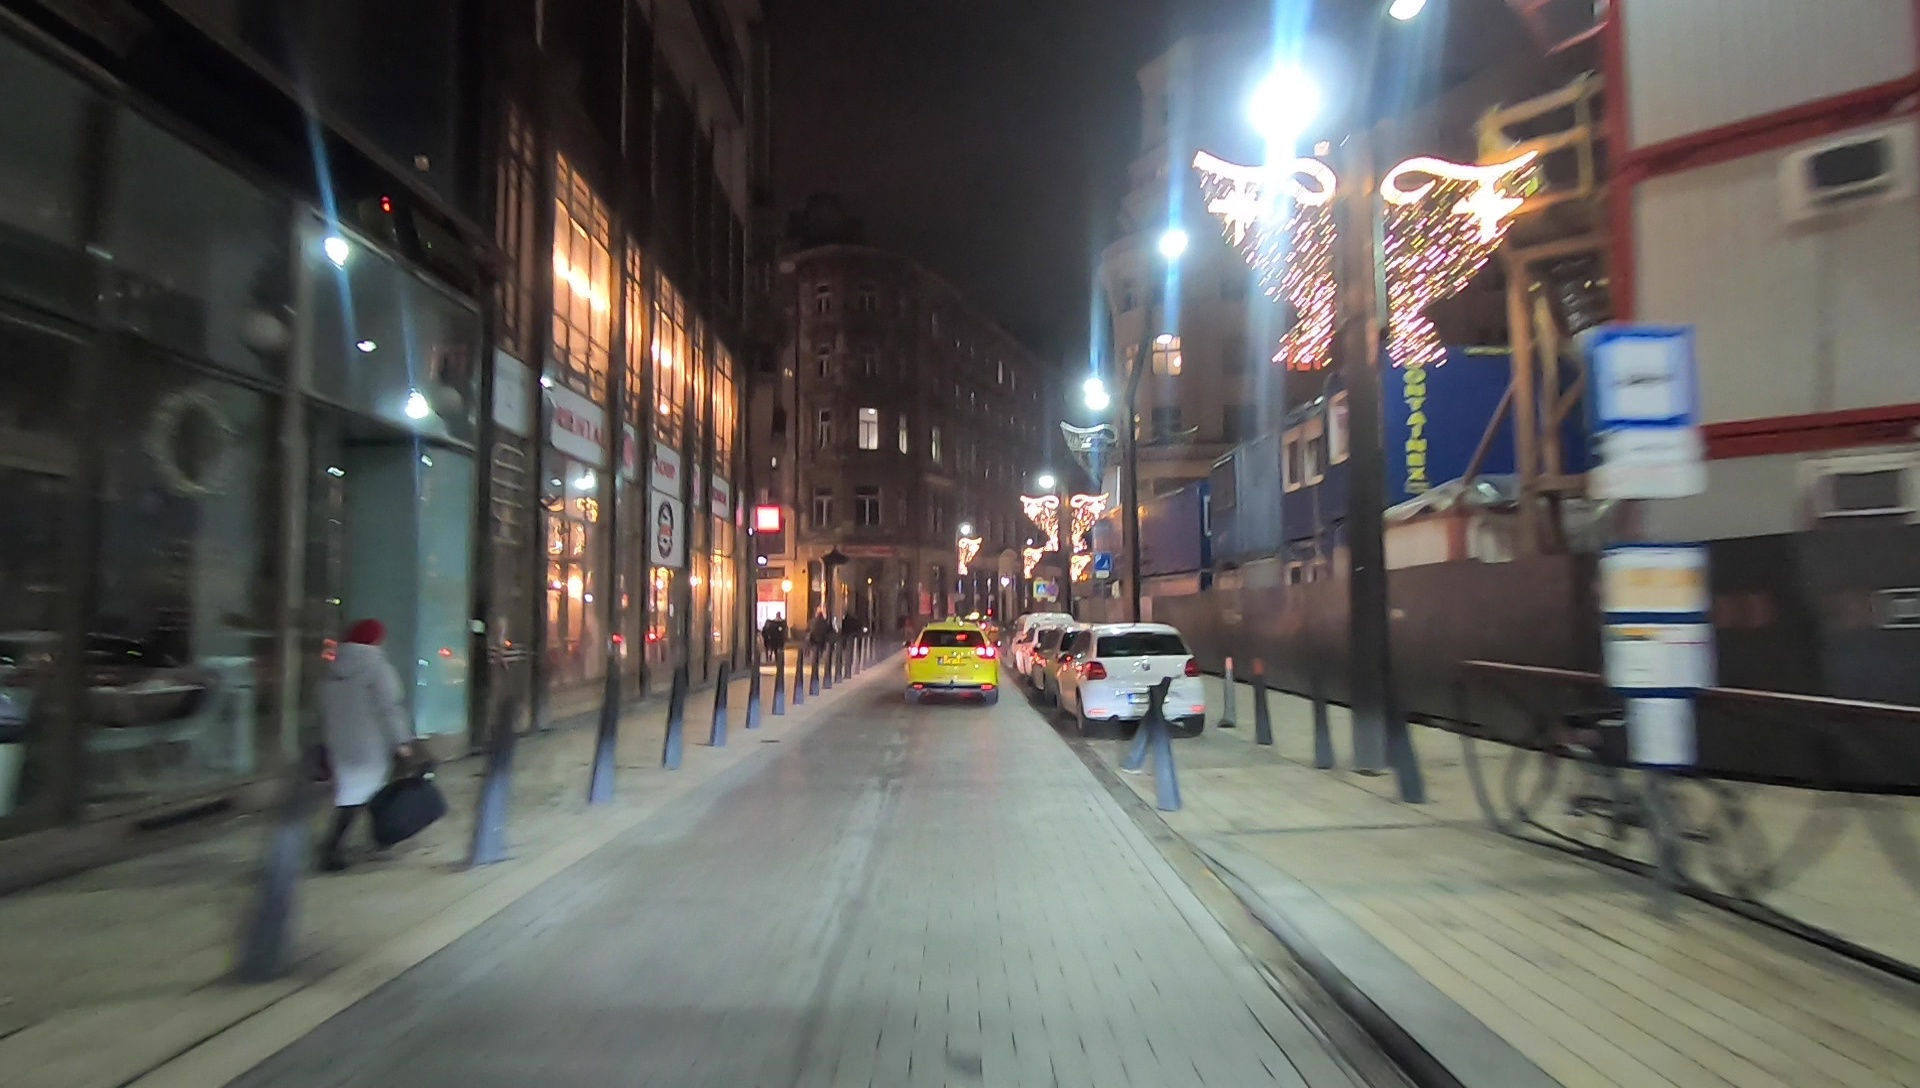person: (301, 611, 441, 884), (810, 611, 828, 662), (770, 611, 787, 662), (842, 611, 858, 665), (760, 618, 774, 661)
